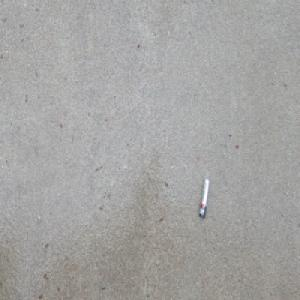Battery: (198, 176, 210, 219)
